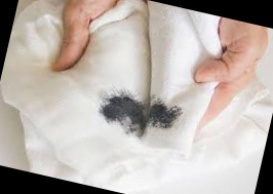ink: (99, 88, 182, 138)
